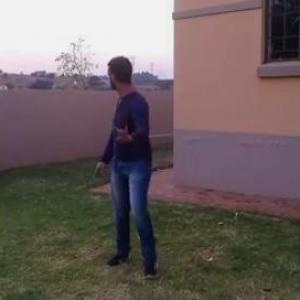takeoff-hand: (110, 120, 136, 152)
